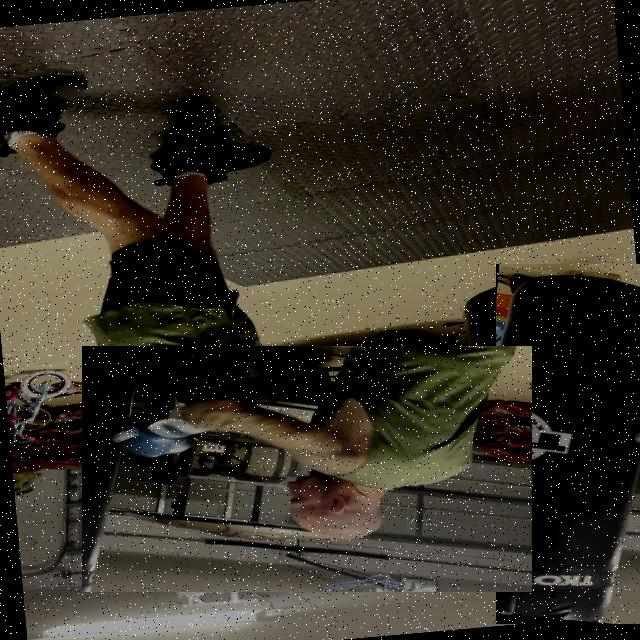punch: (82, 346, 532, 592)
